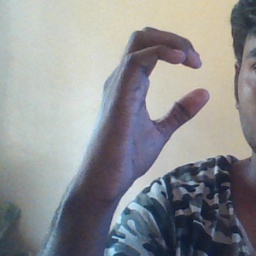C: (111, 22, 218, 145)
